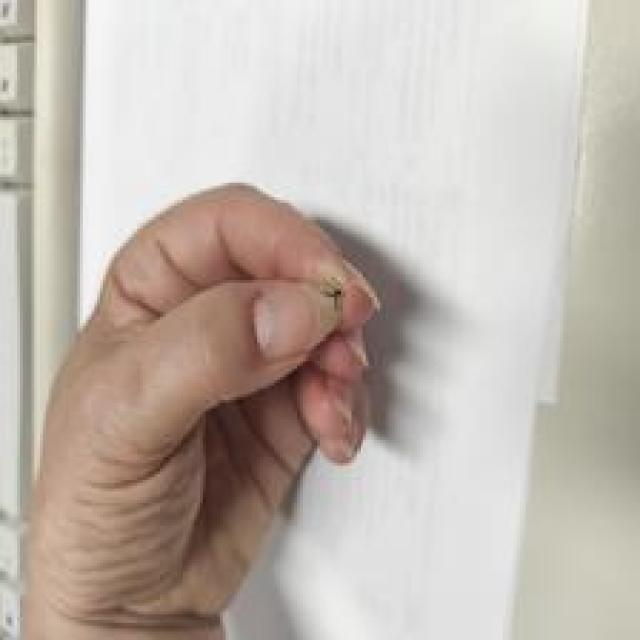Aedes albopictus: (320, 276, 346, 313)
